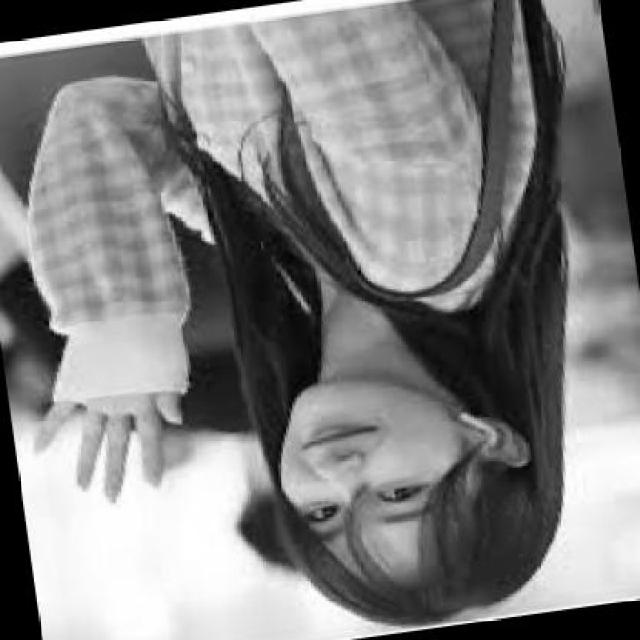earphone: (451, 411, 503, 458)
